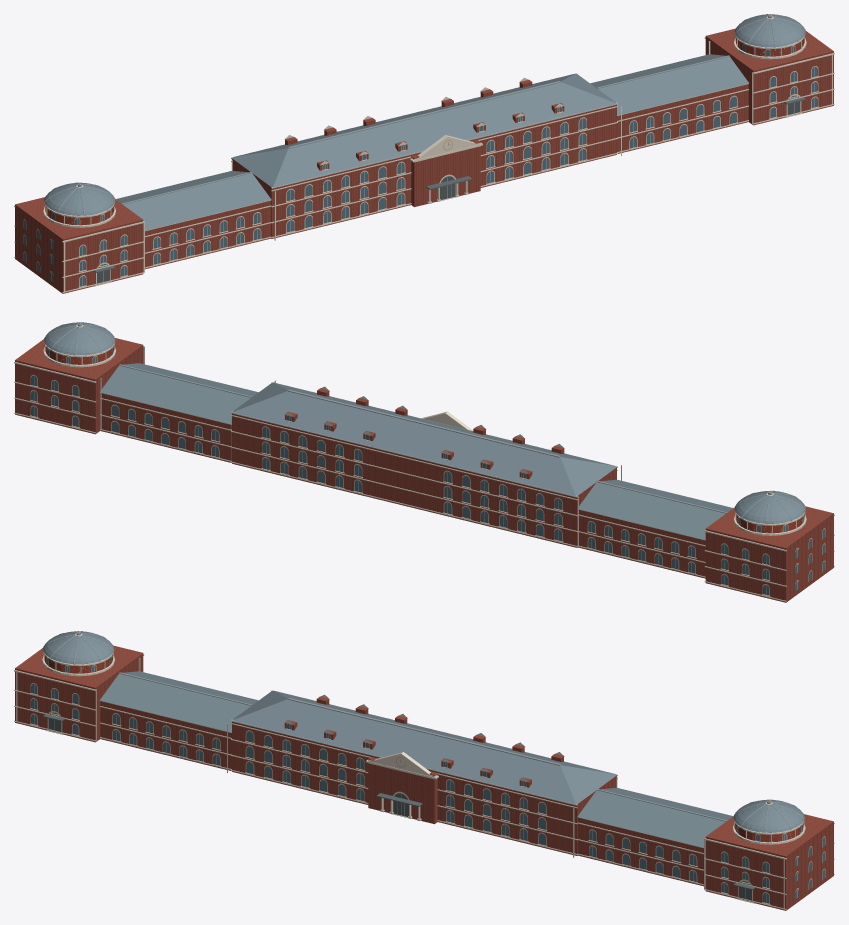
Rendered from tokyo_station.glb.
3 views of the same model, one above another, from view 1: azimuth 30°, elevation 25°; view 2: azimuth 150°, elevation 25°; view 3: azimuth 330°, elevation 25° (orthographic).
Parts seen in each view (by area): view 1: Main central block_game; view 2: Main central block_game; view 3: Main central block_game.
Part boxes in pixels (<box>): Main central block_game: <box>14,14,834,293</box>; Main central block_game: <box>14,322,834,602</box>; Main central block_game: <box>14,631,834,910</box>.
Bounding box in the file's own units: 336 × 35 × 38.52.
Materials: 8 (1 with a texture image).
